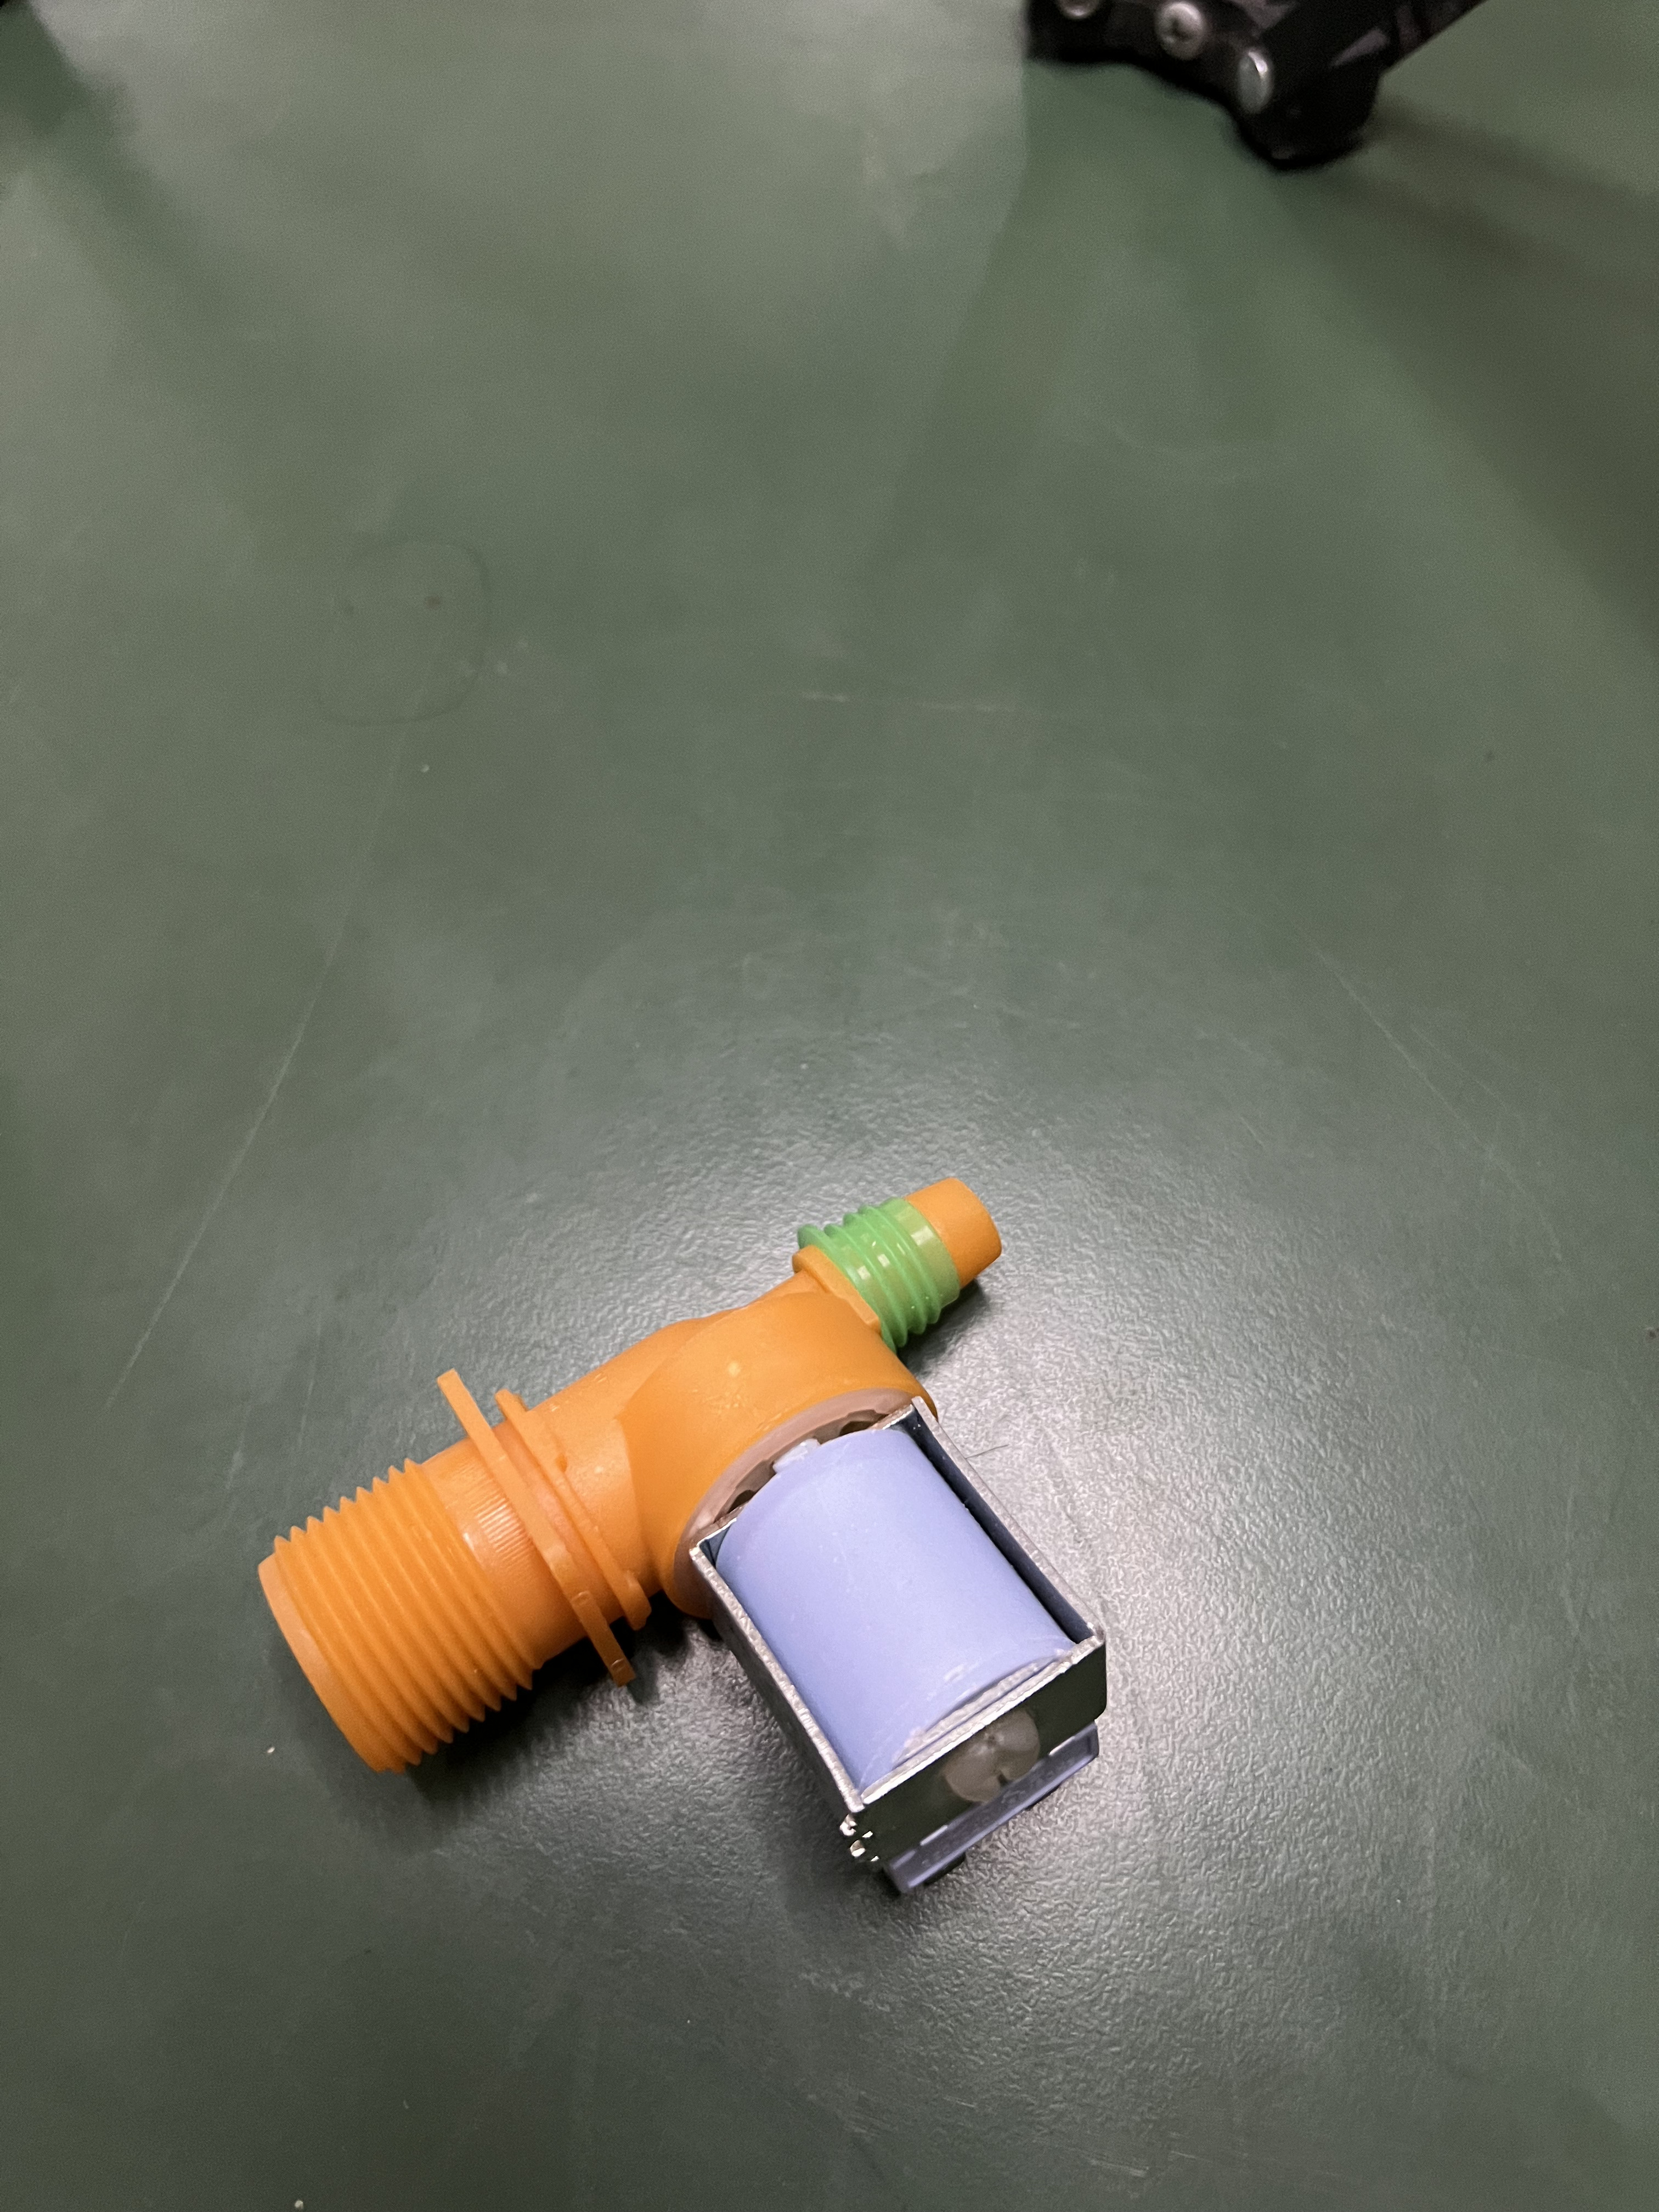ss_inlet_valves: (256, 1174, 1140, 1930)
